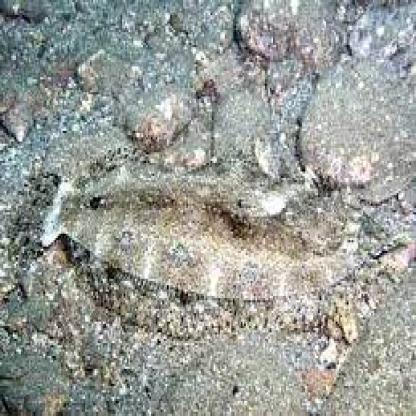flounder: (20, 136, 406, 352)
